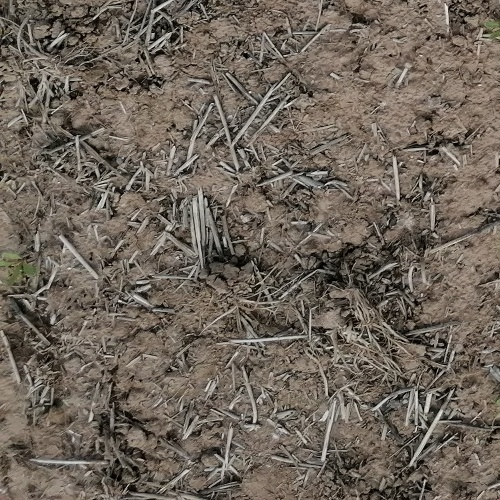beet: (0, 252, 37, 285)
